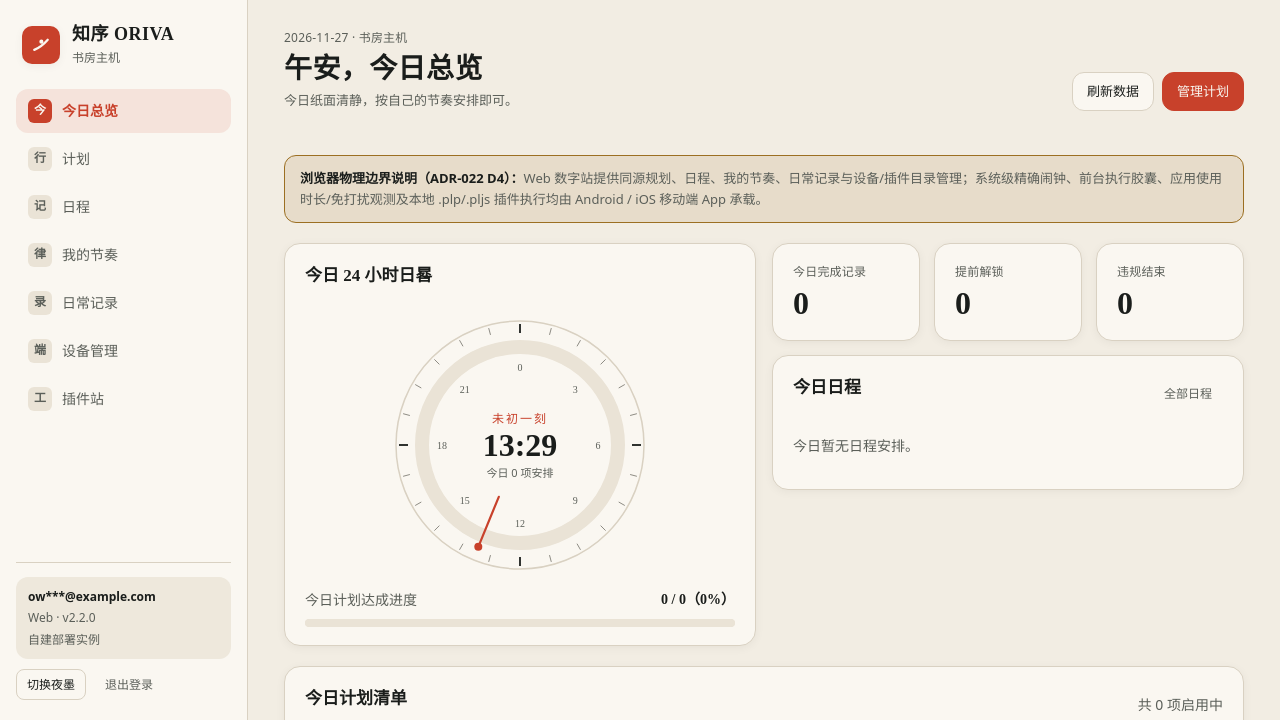
Core views: XSS neutralization, 1409 conflict reload/merge, and B5 trust copy › displays honest close-tab/window warning on App logout when storage and window.name writes fail (R1 v1.4)
The image size is (1280, 720).
Click the button "退出登录".
click(129, 684)  # box [94, 669, 164, 700]
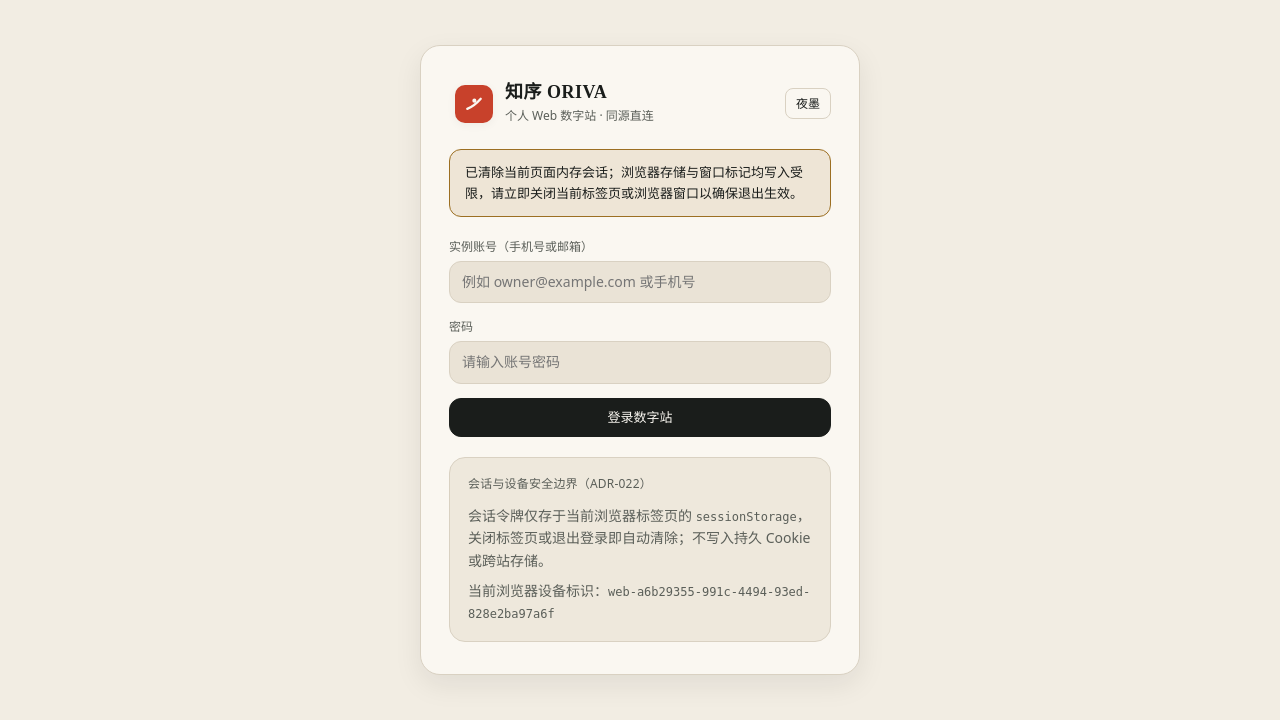
Check: the text "请立即关闭当前标签页或浏览器窗口" is shown, box [465, 163, 803, 202]
